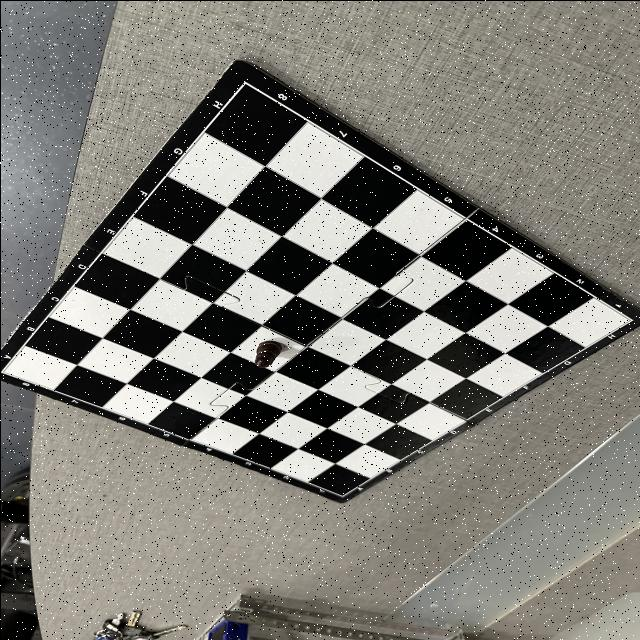Black-Pawn: (253, 340, 280, 368)
